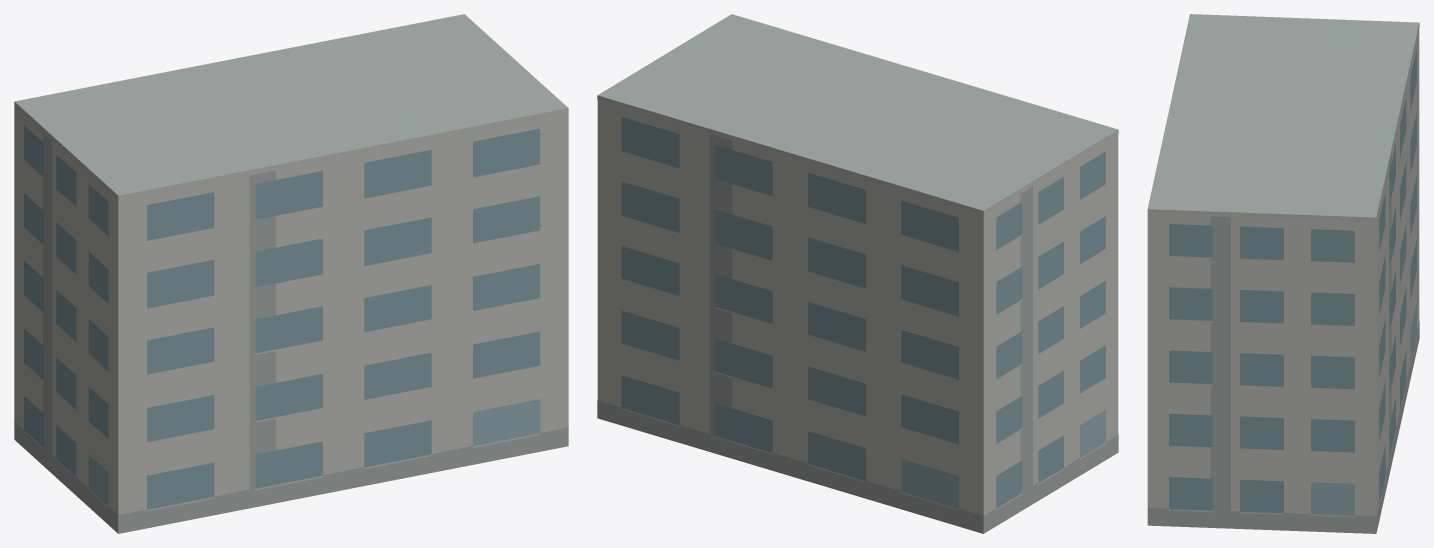
Rendered from survey-upis-33001877.glb.
3 views of the same model, side by side, from view 1: azimuth 30°, elevation 25°; view 2: azimuth 150°, elevation 25°; view 3: azimuth 270°, elevation 25° (orthographic). The views are drawn at different scales.
Visible parts, largest first — view 1: survey-upis-33001877.tmp; view 2: survey-upis-33001877.tmp; view 3: survey-upis-33001877.tmp.
Part boxes in pixels (<box>): survey-upis-33001877.tmp: <box>14,14,568,533</box>; survey-upis-33001877.tmp: <box>597,14,1118,533</box>; survey-upis-33001877.tmp: <box>1147,14,1419,533</box>.
Size of the model in its own units: 21.04 by 15.25 by 11.88.
